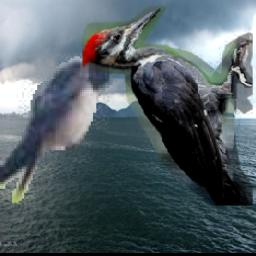Swallow: (0, 54, 113, 206)
Woodpecker: (82, 6, 253, 206)
